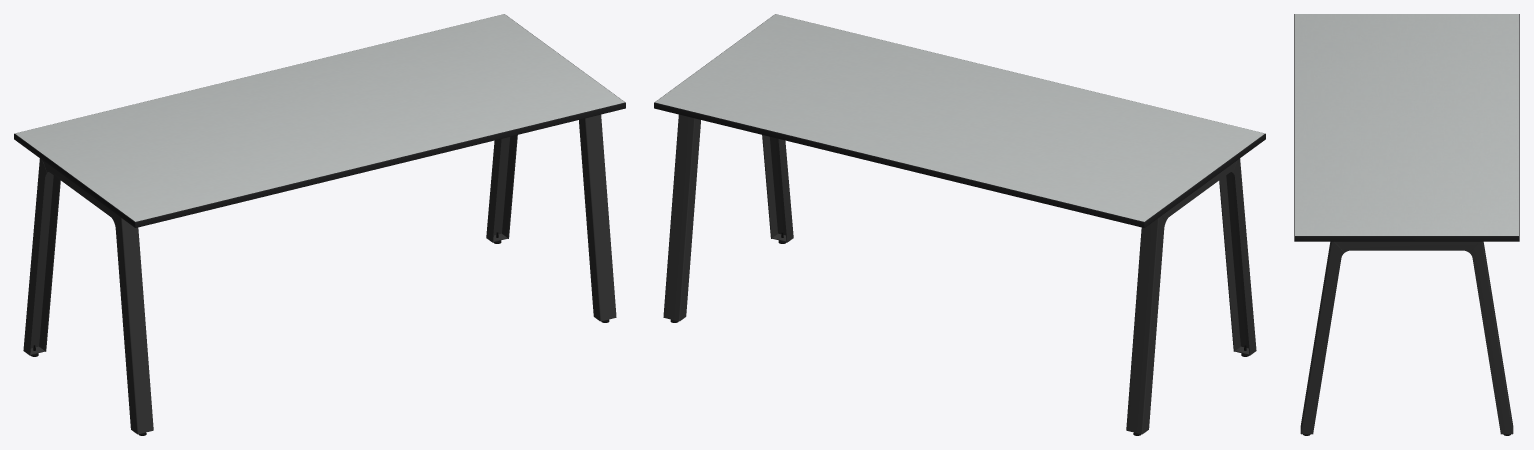
File: Heighten Table.FBX
3 renders of one model, left to right at view 1: azimuth 30°, elevation 25°; view 2: azimuth 150°, elevation 25°; view 3: azimuth 270°, elevation 25°, orthographic. The views are drawn at different scales.
Visible parts, largest first — view 1: ChamferBox003, Heighten Table v-ray; view 2: ChamferBox003, Heighten Table v-ray; view 3: ChamferBox003, Heighten Table v-ray.
Part boxes in pixels (<box>): ChamferBox003: <box>14,14,625,227</box>; Heighten Table v-ray: <box>23,114,616,435</box>; ChamferBox003: <box>654,14,1265,227</box>; Heighten Table v-ray: <box>663,114,1256,435</box>; ChamferBox003: <box>1294,14,1519,241</box>; Heighten Table v-ray: <box>1300,241,1513,435</box>.
Size of the model in its own units: 2100 by 901 by 900.
Materials: 4 (1 with a texture image).
